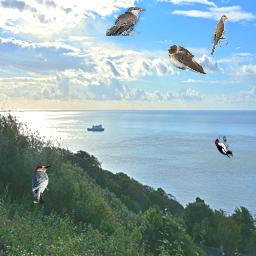Cuckoo: (106, 7, 146, 36), (211, 15, 228, 55)
Swallow: (167, 45, 207, 74)
Woodpecker: (31, 163, 52, 203), (213, 135, 233, 159)
